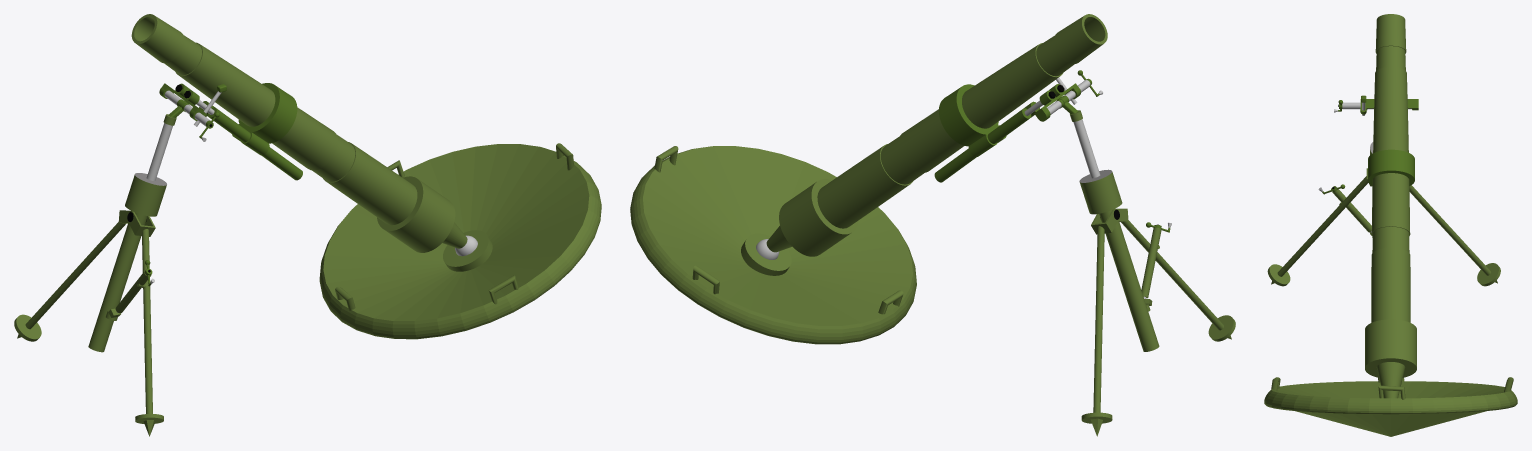
Rendered from mortar.fbx.
3 renders of one model, left to right at view 1: azimuth 30°, elevation 25°; view 2: azimuth 150°, elevation 25°; view 3: azimuth 270°, elevation 25°, orthographic. The views are drawn at different scales.
Parts seen in each view (by area): view 1: Объект_Цилиндр_6_4, Объект_Труба_1_4, Объект_Труба_1_2, Объект_Цилиндр_2, Объект_Труба, Объект_Цилиндр_3, Объект_Цилиндр_4, Объект_Труба_2_2, Объект_Цилиндр_5, Объект_Цилиндр_5_3, Объект_Цилиндр_1_2; view 2: Объект_Цилиндр_6_4, Объект_Труба_1_4, Объект_Труба_1_2, Объект_Цилиндр_2, Объект_Труба, Объект_Цилиндр_5, Объект_Цилиндр_3, Объект_Труба_2_2, Объект_Цилиндр_1_3, Объект_Цилиндр_4, Объект_Цилиндр_9_2, Объект_Цилиндр_1_2; view 3: Объект_Труба_1_4, Объект_Цилиндр_6_4, Объект_Труба_1_2, Объект_Труба, Объект_Цилиндр_4, Объект_Цилиндр_5, Объект_Цилиндр_1_4, Объект_Конус_2, Объект_Цилиндр_9_2, Объект_Конус_1.
Part boxes in pixels (<box>): Объект_Цилиндр_6_4: <box>319,144,601,339</box>; Объект_Труба_1_4: <box>131,14,417,225</box>; Объект_Труба_1_2: <box>377,176,455,252</box>; Объект_Цилиндр_2: <box>88,212,147,352</box>; Объект_Труба: <box>238,83,297,143</box>; Объект_Цилиндр_3: <box>125,173,166,216</box>; Объект_Цилиндр_4: <box>142,229,152,413</box>; Объект_Труба_2_2: <box>443,230,492,271</box>; Объект_Цилиндр_5: <box>25,222,125,329</box>; Объект_Цилиндр_5_3: <box>208,107,302,180</box>; Объект_Цилиндр_1_2: <box>146,123,172,180</box>; Объект_Цилиндр_6_4: <box>630,146,916,344</box>; Объект_Труба_1_4: <box>817,14,1107,228</box>; Объект_Труба_1_2: <box>779,179,858,256</box>; Объект_Цилиндр_2: <box>1099,210,1159,351</box>; Объект_Труба: <box>939,84,998,146</box>; Объект_Цилиндр_5: <box>1093,226,1104,412</box>; Объект_Цилиндр_3: <box>1079,169,1122,214</box>; Объект_Труба_2_2: <box>741,233,791,275</box>; Объект_Цилиндр_1_3: <box>934,108,1031,182</box>; Объект_Цилиндр_4: <box>1121,220,1223,330</box>; Объект_Цилиндр_9_2: <box>1141,227,1161,298</box>; Объект_Цилиндр_1_2: <box>1073,119,1100,178</box>; Объект_Труба_1_4: <box>1371,14,1410,322</box>; Объект_Цилиндр_6_4: <box>1264,381,1517,436</box>; Объект_Труба_1_2: <box>1365,319,1416,377</box>; Объект_Труба: <box>1368,149,1414,185</box>; Объект_Цилиндр_4: <box>1277,176,1368,276</box>; Объект_Цилиндр_5: <box>1409,185,1490,275</box>; Объект_Цилиндр_1_4: <box>1376,362,1405,398</box>; Объект_Конус_2: <box>1477,263,1500,286</box>; Объект_Цилиндр_9_2: <box>1332,189,1371,232</box>; Объект_Конус_1: <box>1267,264,1290,286</box>.
Size of the model in its own units: 866 by 574 by 436.
